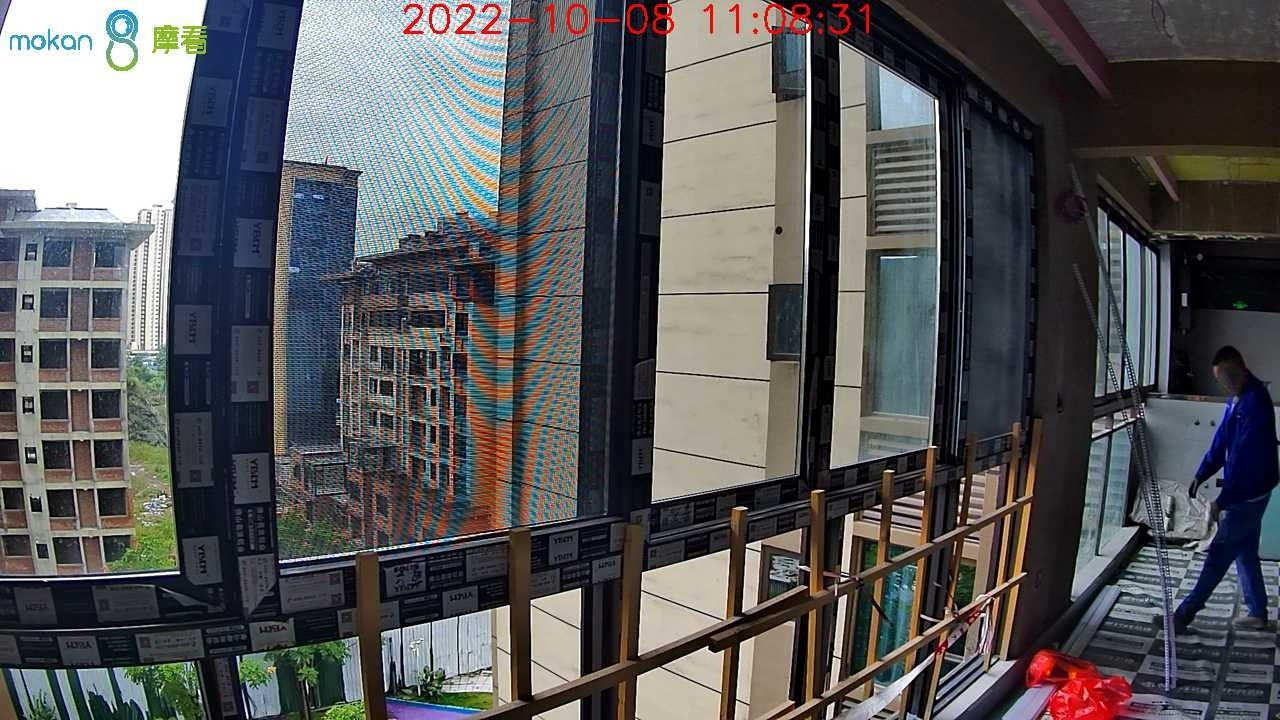people: (1172, 346, 1279, 630)
window: (2, 2, 1164, 720)
